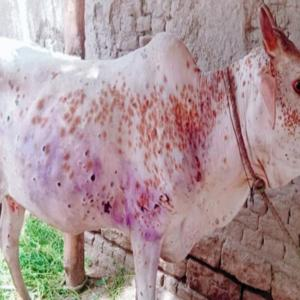lumpy skin diesease: (0, 2, 299, 299)
